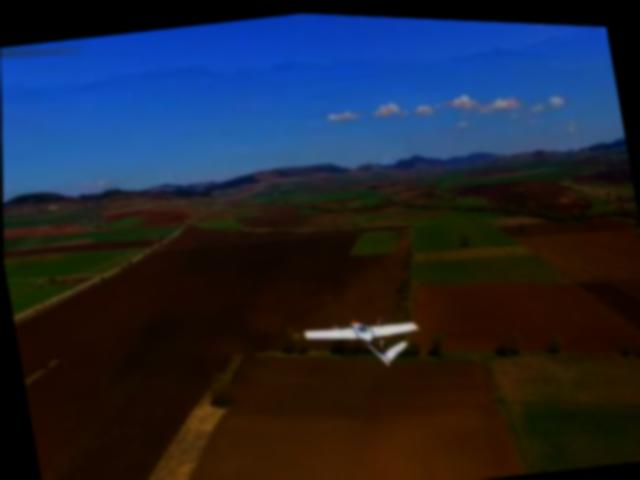uav: (295, 295, 431, 381)
